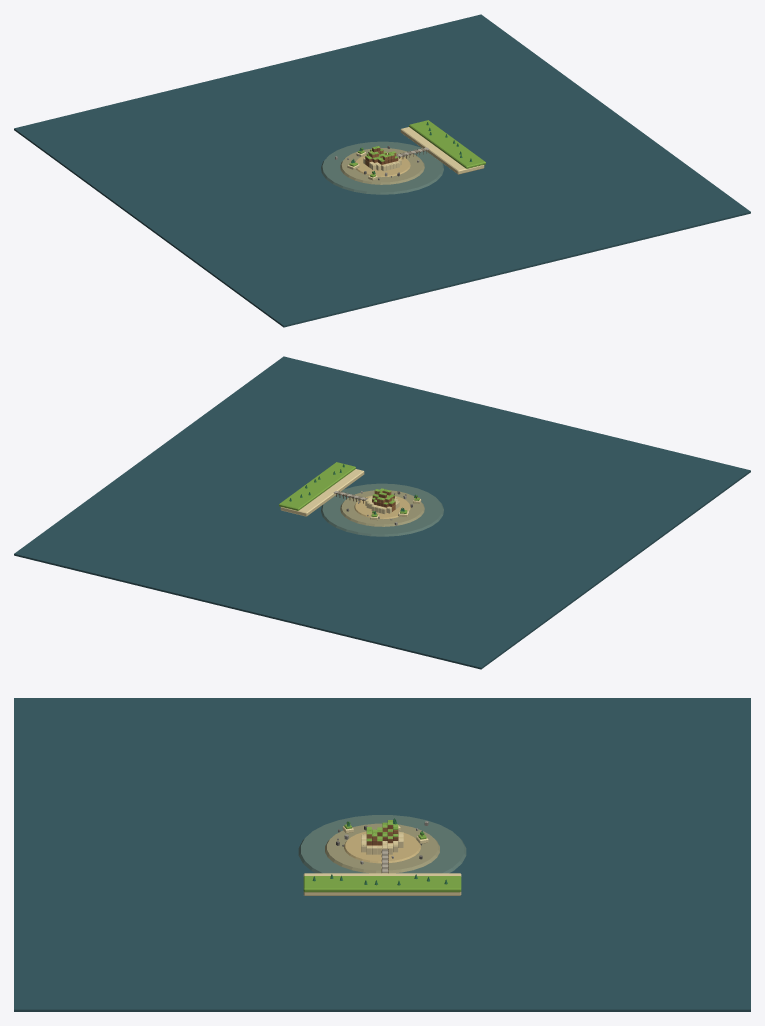
Rendered from island-fold.glb.
3 renders of one model, top to bottom at view 1: azimuth 30°, elevation 25°; view 2: azimuth 150°, elevation 25°; view 3: azimuth 270°, elevation 25°, orthographic. The views are drawn at different scales.
Parts seen in each view (by area): view 1: The Fold; view 2: The Fold; view 3: The Fold.
Boxes of the visible parts, x1=… form: The Fold: x1=14, y1=14, x2=750, y2=327; The Fold: x1=14, y1=356, x2=750, y2=669; The Fold: x1=14, y1=698, x2=750, y2=1011.
Bounding box in the file's own units: 140 × 6.76 × 140.
